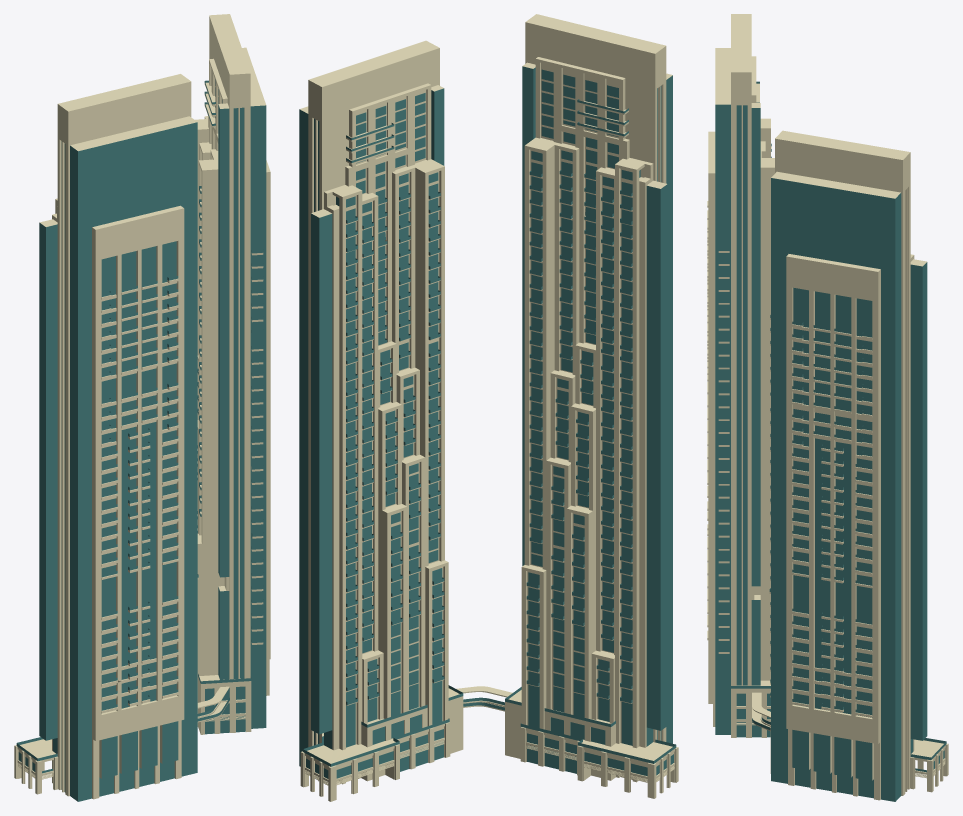
The model's file is ACT1_ACT2_04.fbx.
3 views of the same model, side by side, from view 1: azimuth 30°, elevation 25°; view 2: azimuth 150°, elevation 25°; view 3: azimuth 270°, elevation 25° (orthographic). The views are drawn at different scales.
Visible parts, largest first — view 1: b_04, b_04_bridge; view 2: b_04, b_04_bridge; view 3: b_04, b_04_bridge.
Boxes of the visible parts, x1,y1,x2,y2 form: b_04: (14, 14, 270, 801); b_04_bridge: (197, 686, 229, 722); b_04: (299, 14, 678, 801); b_04_bridge: (456, 686, 512, 711); b_04: (707, 14, 948, 801); b_04_bridge: (752, 692, 770, 731).
Bounding box in the file's own units: 10447 × 7900 × 23998.
